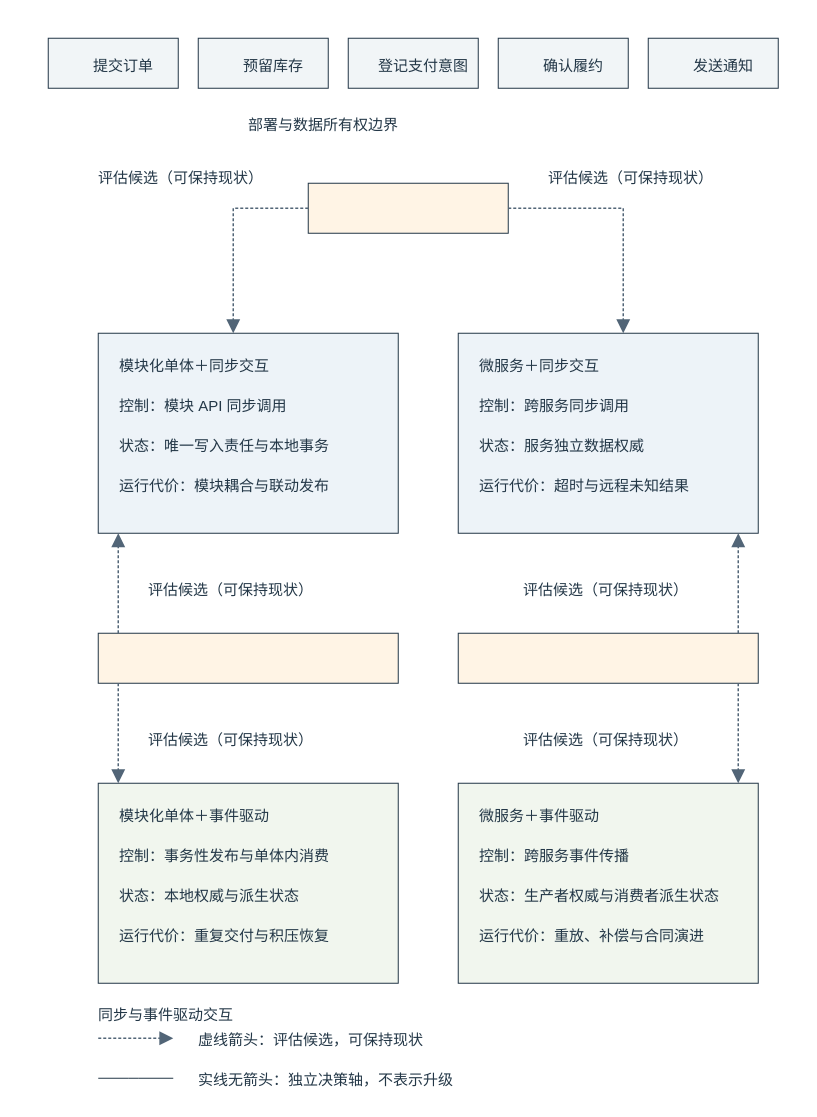
Some shapes in this 817 by 1117 pixel diagram are drawn without their labels. The shapes that lost their labels are listed below. From the top down, each one's centre as x and y in pixels, then its label:
At (x=408, y=208): "业务增长".
At (x=248, y=658): "局部故障".
At (x=608, y=658): "团队独立交付".
